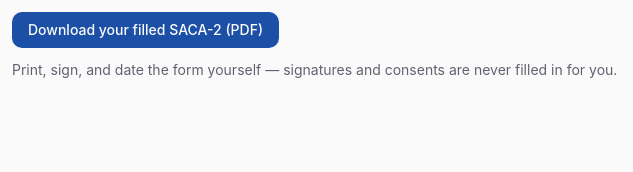
Scenario: Saca2Download › gives 413 its own message, not a retry prompt
Click the button "Download your filled SACA-2 (PDF)".
click(146, 30)  # box [12, 12, 279, 48]
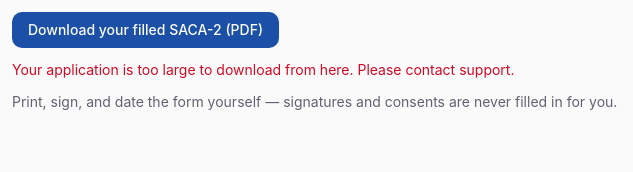
Check: the message does not show "try again", box [12, 61, 514, 78]
Check: the message reads "Your application is too large to download from here. Please contact support.", box [12, 61, 514, 78]
